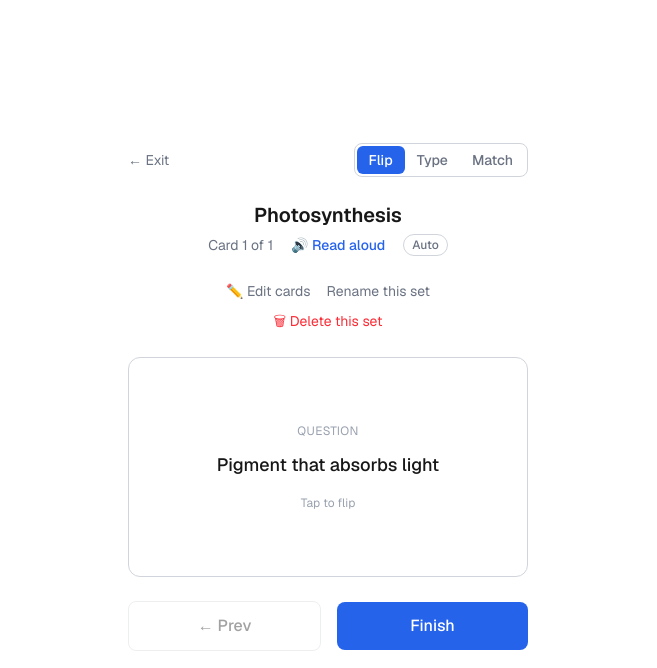
study set page › stays in the editor and shows the error when saving fails
Click the button "✏️ Edit cards": (268, 291) 226,281 -> 310,301
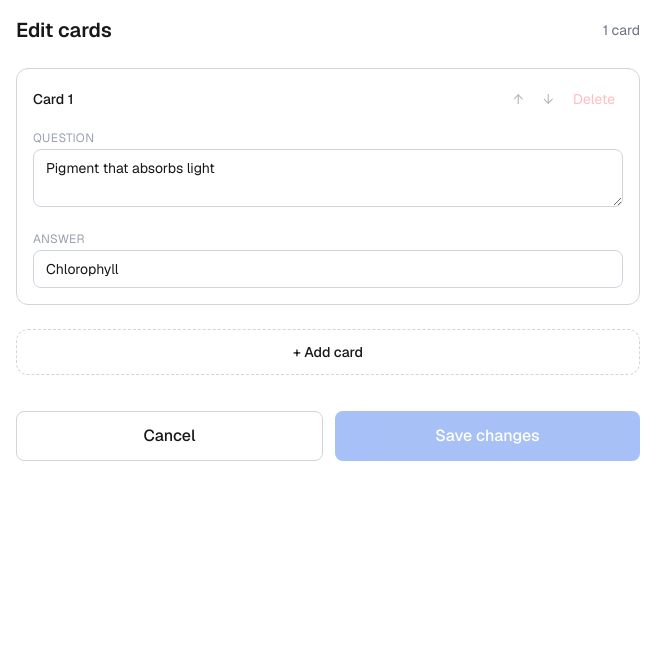
Replace the text in the text box labelled "Question" with "Changed": (328, 178) 33,149 -> 623,207
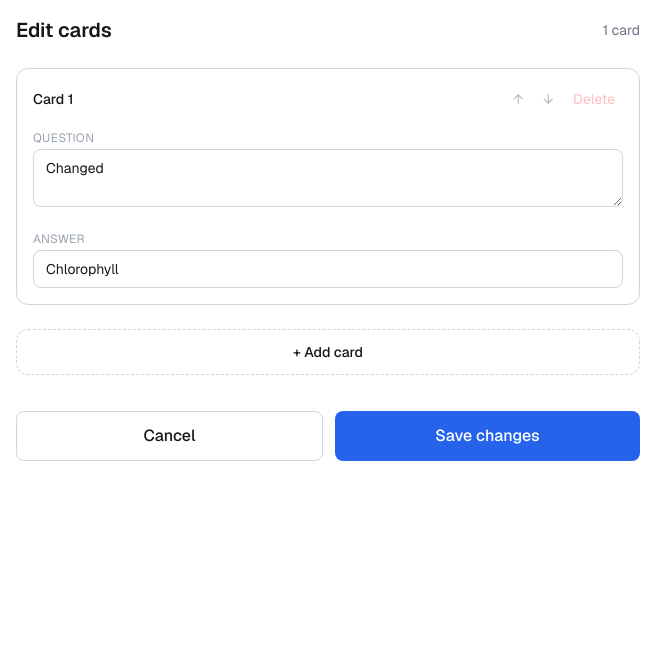
Click the button "Save changes": (488, 436) 335,411 -> 640,461
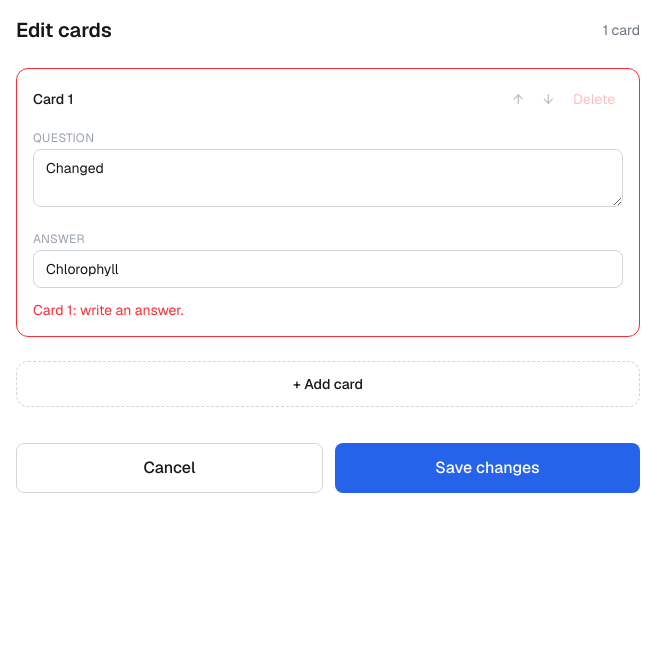
Expected: the heading "Edit cards" is shown, 16,16 -> 112,44
Expected: the message reads "Card 1: write an answer.", 33,301 -> 184,319
